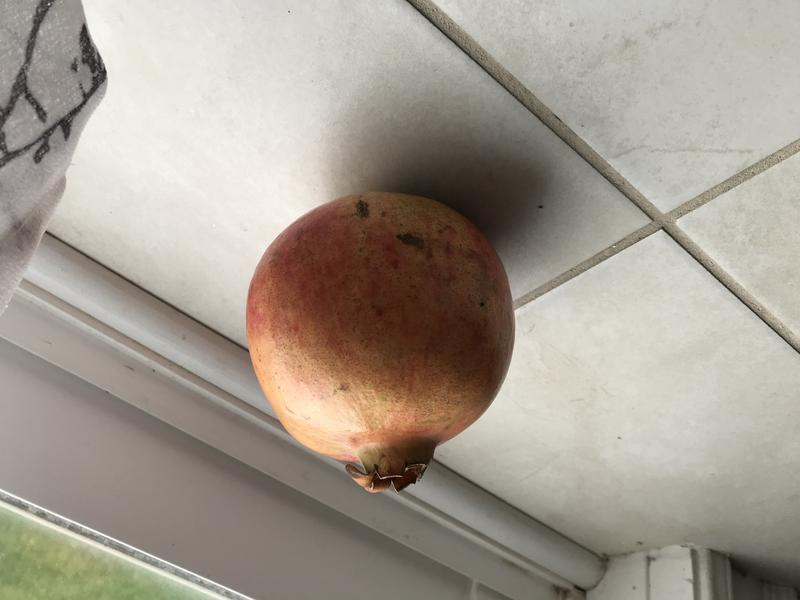pomegranate: (236, 182, 529, 507)
